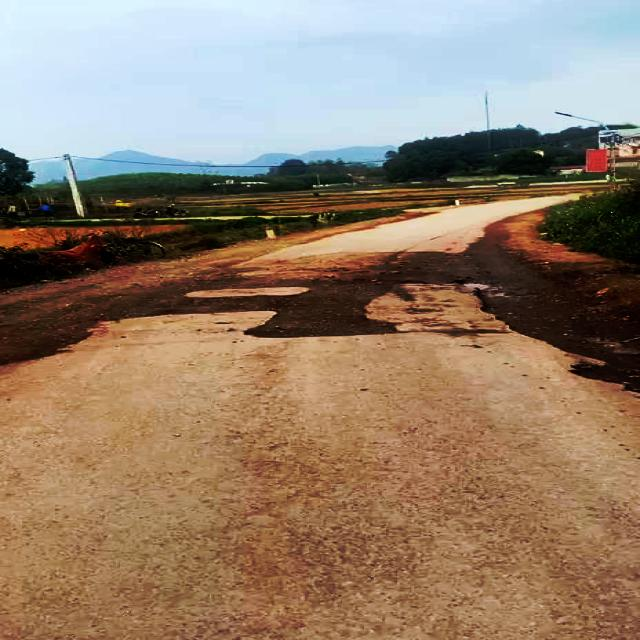pothole: (232, 290, 401, 340)
